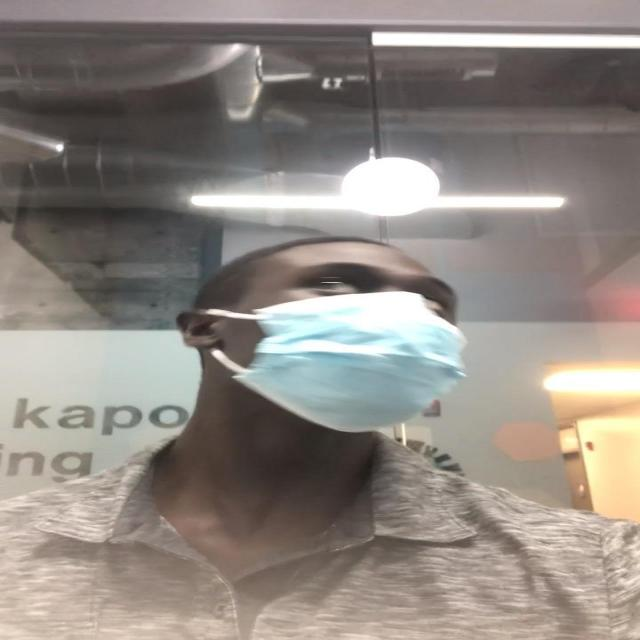face: (201, 246, 467, 432)
